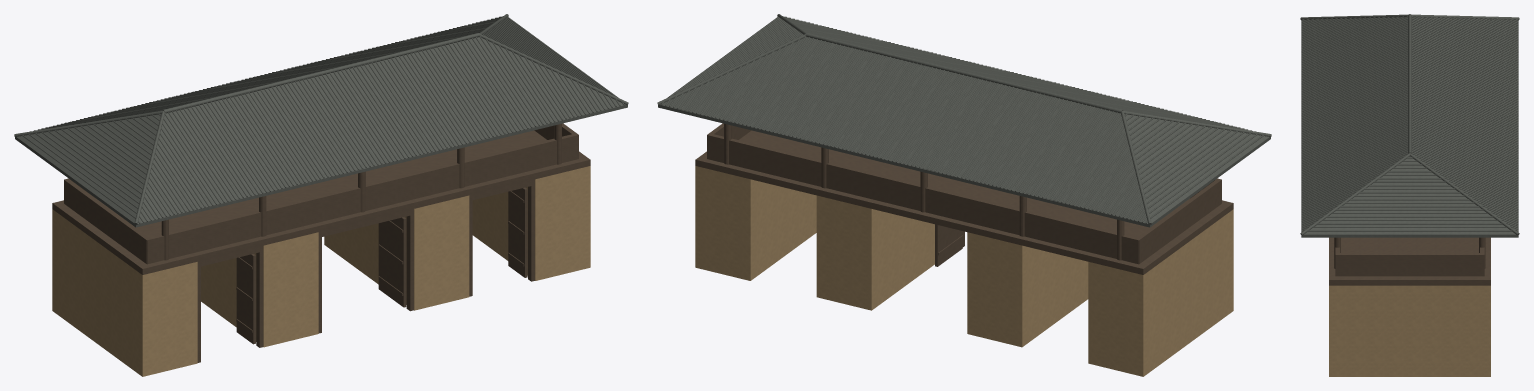
The model's file is shangxi-X-LOD0.glb.
The picture shows the model from 3 angles, left to right: view 1: azimuth 30°, elevation 25°; view 2: azimuth 150°, elevation 25°; view 3: azimuth 270°, elevation 25°; orthographic projection. The views are drawn at different scales.
Visible parts, largest first — view 1: shangxi-X-static_tile, shangxi-X-static_earth, shangxi-X-static_timber; view 2: shangxi-X-static_tile, shangxi-X-static_earth, shangxi-X-static_timber; view 3: shangxi-X-static_tile, shangxi-X-static_earth, shangxi-X-static_timber.
Part boxes in pixels (left/top/right/bottom): shangxi-X-static_tile: left=14, top=14, right=628, bottom=227; shangxi-X-static_earth: left=52, top=166, right=590, bottom=376; shangxi-X-static_timber: left=52, top=123, right=590, bottom=362; shangxi-X-static_tile: left=657, top=14, right=1271, bottom=227; shangxi-X-static_earth: left=695, top=166, right=1233, bottom=376; shangxi-X-static_timber: left=695, top=123, right=1233, bottom=274; shangxi-X-static_tile: left=1300, top=14, right=1519, bottom=237; shangxi-X-static_earth: left=1329, top=285, right=1490, bottom=376; shangxi-X-static_timber: left=1329, top=237, right=1490, bottom=285.
Bounding box in the file's own units: 26.93 × 11.34 × 11.51.
3 materials, 3 textured.
